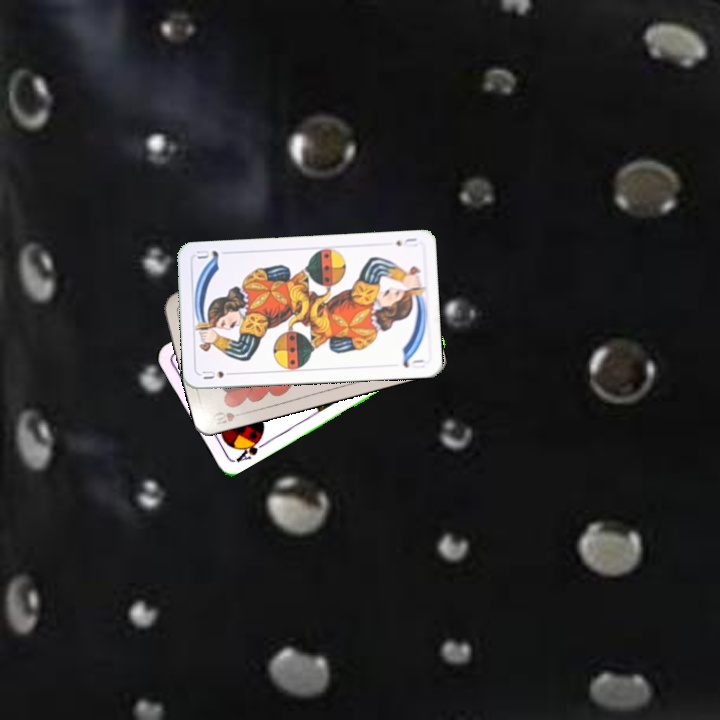H10: (208, 408, 248, 429)
SA: (232, 433, 269, 465)
SU: (198, 367, 238, 382), (391, 234, 420, 250)
